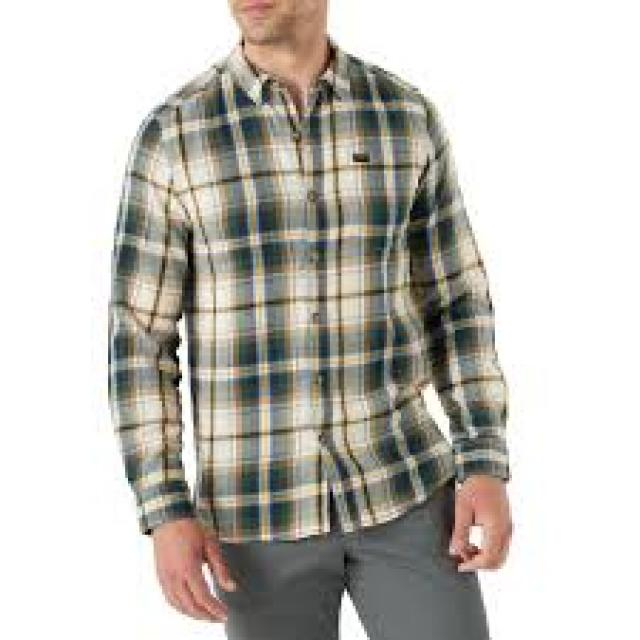plaid: (108, 55, 512, 512)
